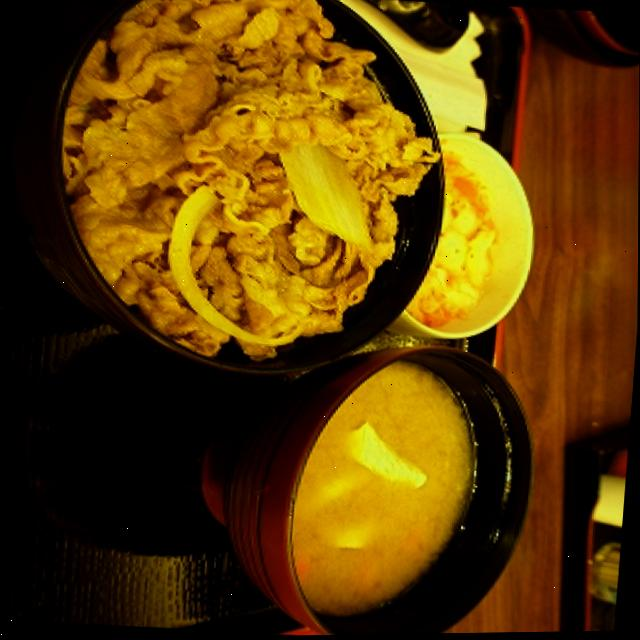汤锅炖物: (239, 339, 552, 637)
